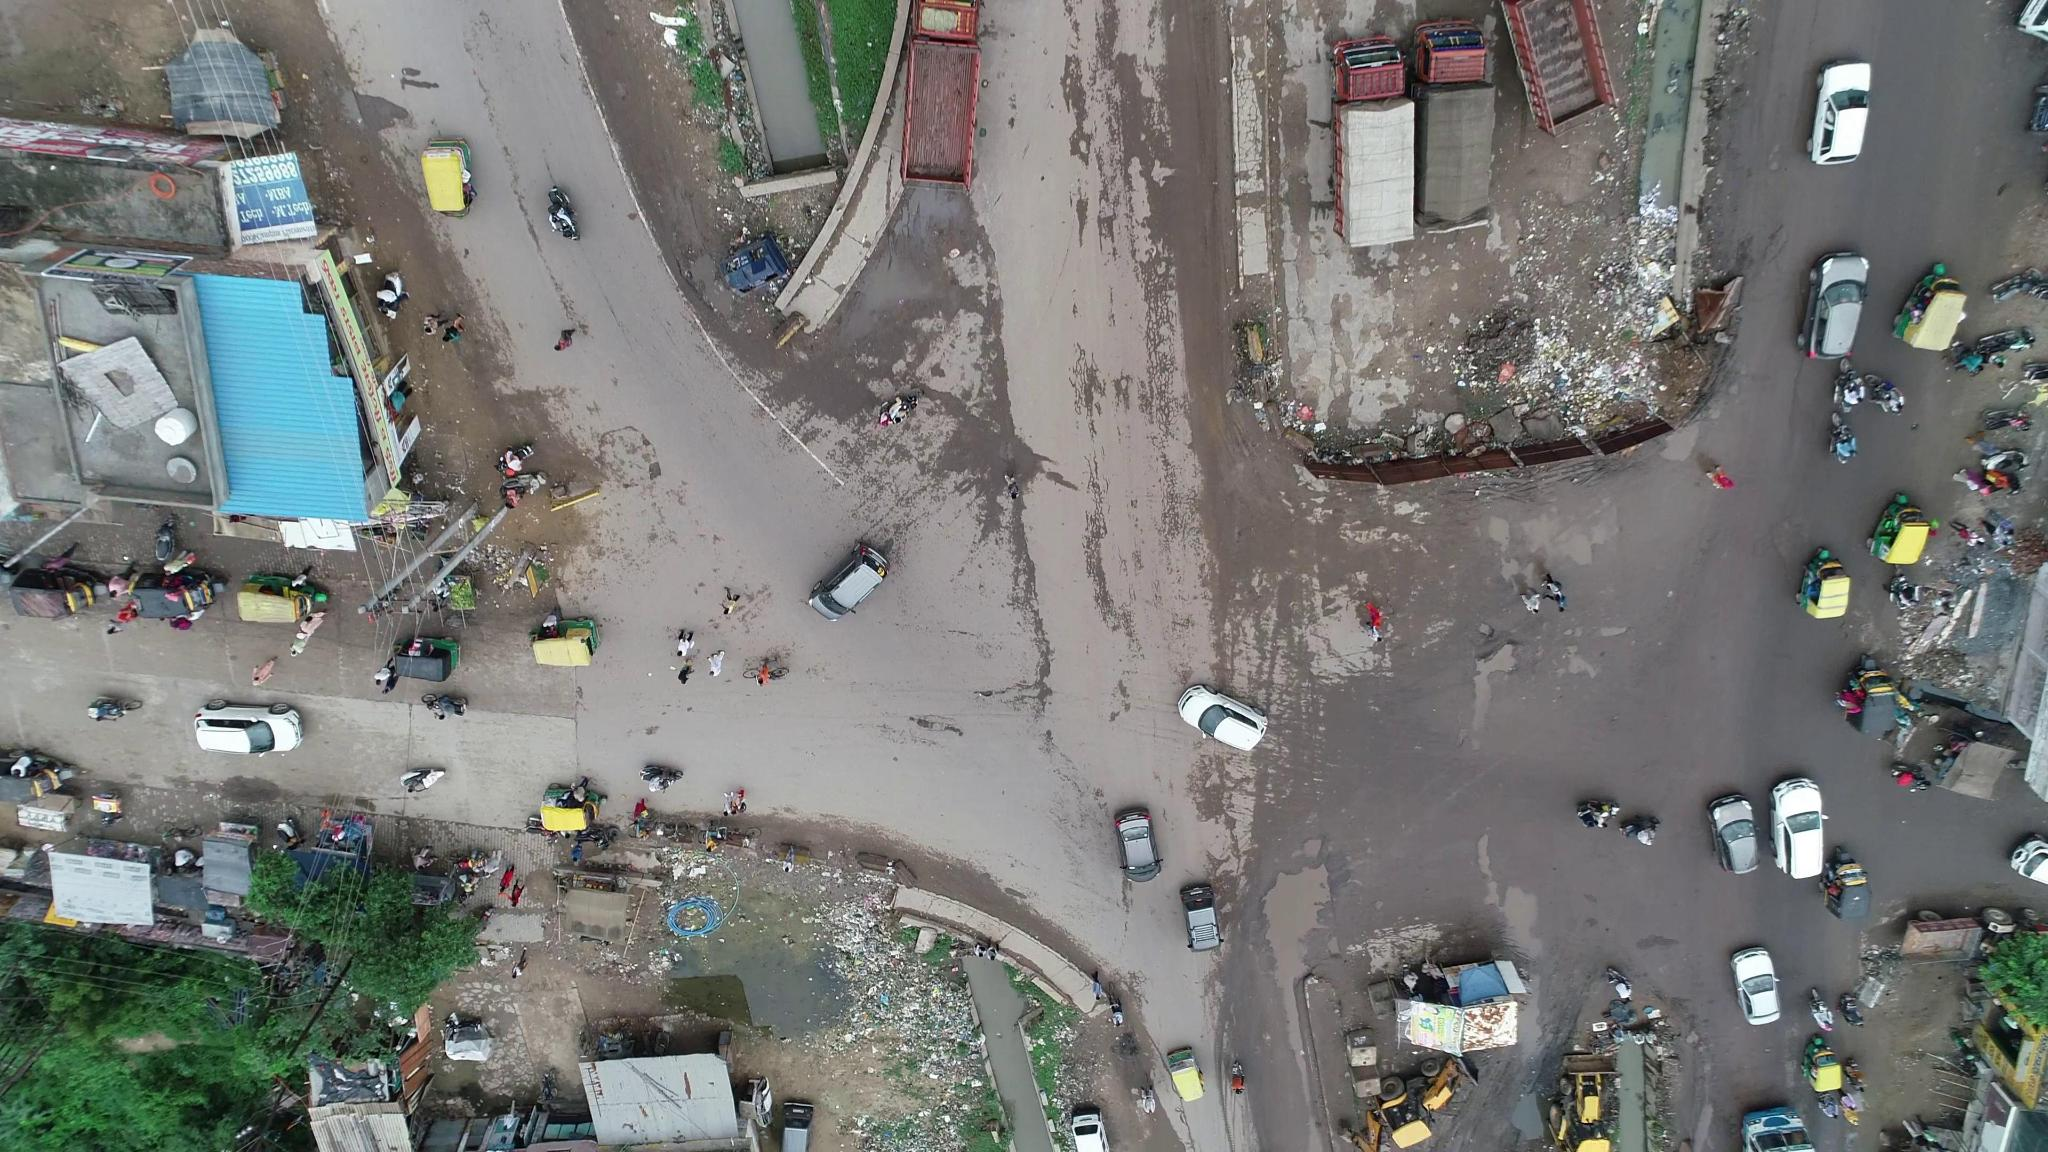Potholes: (1446, 608, 1665, 715)
